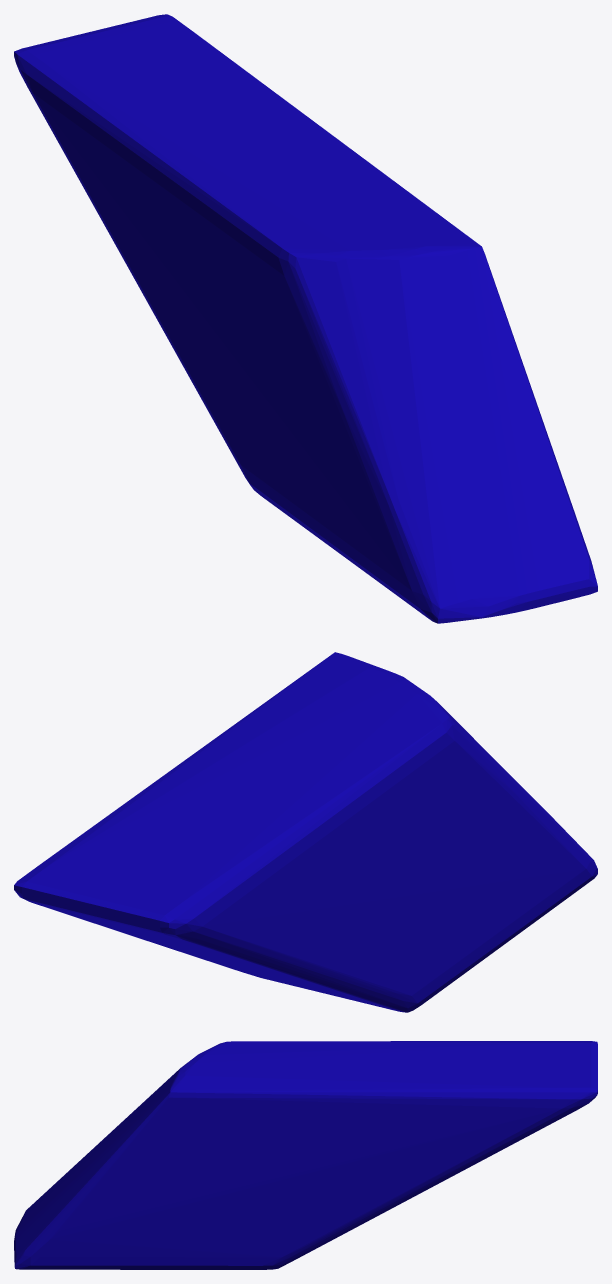
Rendered from left-toe-roll-0_part_5.obj.
3 renders of one model, top to bottom at view 1: azimuth 30°, elevation 25°; view 2: azimuth 150°, elevation 25°; view 3: azimuth 270°, elevation 25°, orthographic. The views are drawn at different scales.
Bounding box in the file's own units: 0.0227 × 0.0347 × 0.1018.
